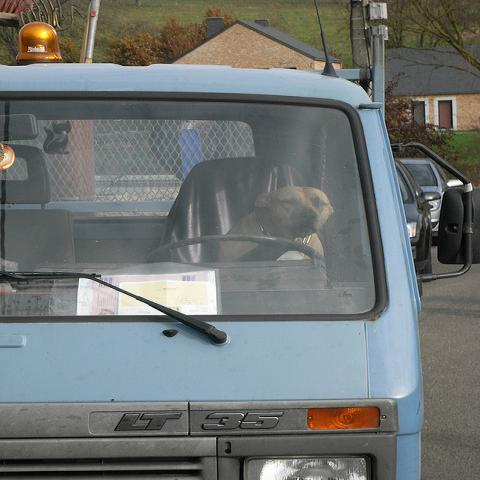car: (0, 88, 423, 478), (396, 160, 441, 275), (394, 158, 450, 241)
truck: (0, 20, 426, 473)
